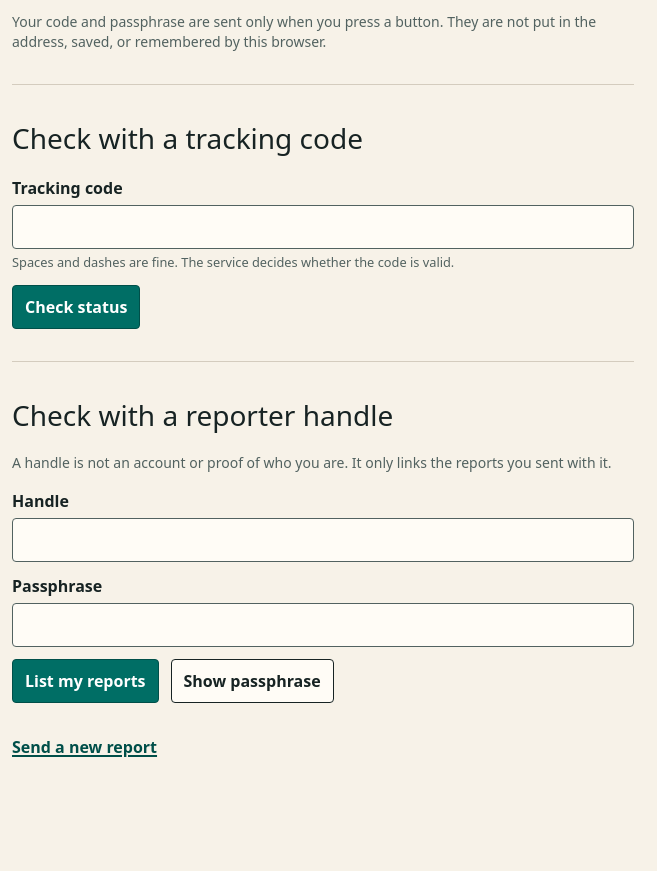
Test: TrackPanel › looks a code up through a POST body only, normalises it, clears the box, and shows a public-safe status
Expected: the button "Check status" is enabled, [12,285,140,329]
In the field labelled "Tracking code": (323, 227) [12,205,634,249], type "sg – demo 0001"
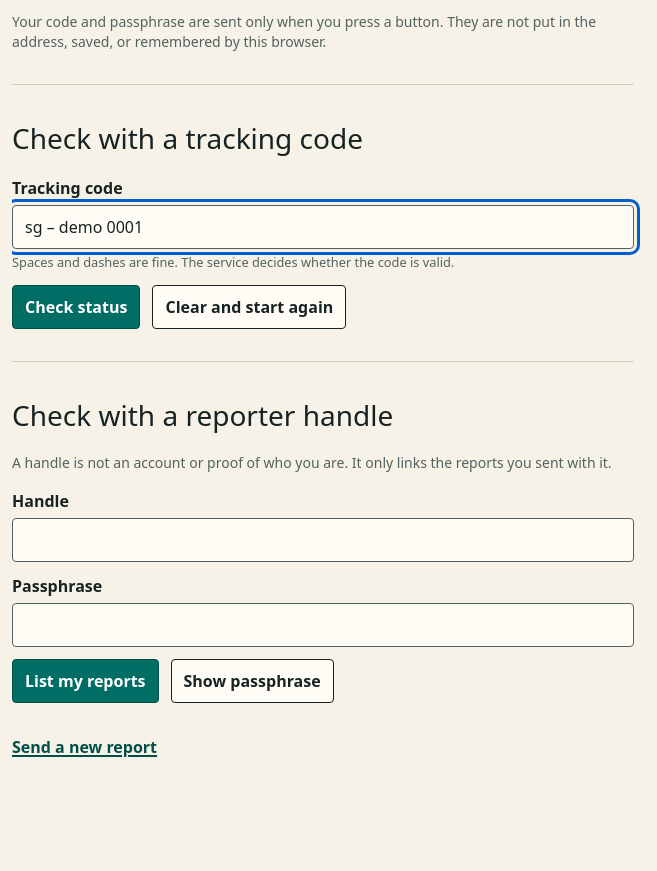
Click the button "Check status": (76, 307) [12,285,140,329]
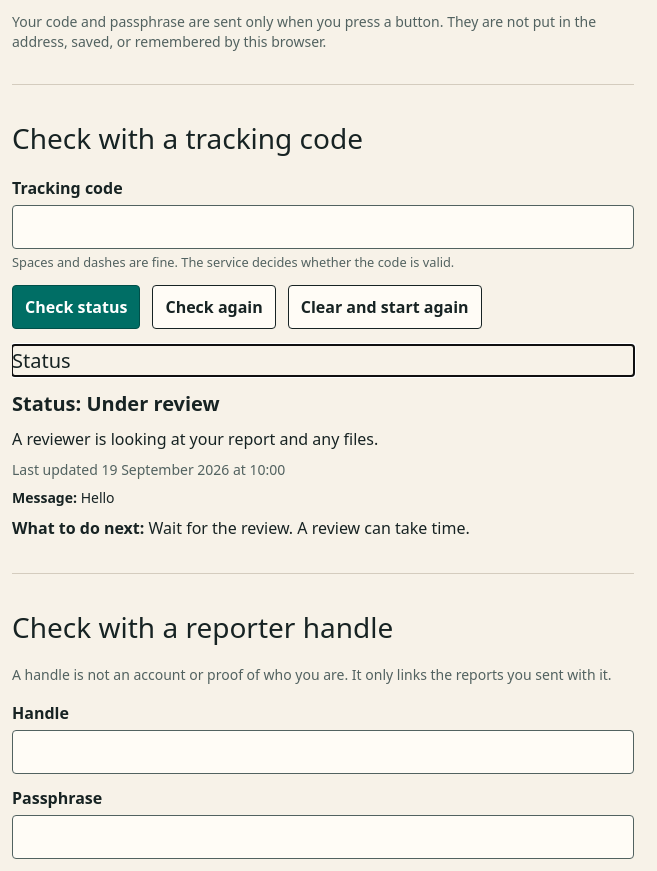
Expected: the text "A reviewer is looking at your report and any files." is shown, [12,428,378,450]
Expected: the field labelled "Tracking code" is empty, [12,205,634,249]
Expected: the text "Wait for the review. A review can take time." is shown, [148,517,470,539]
